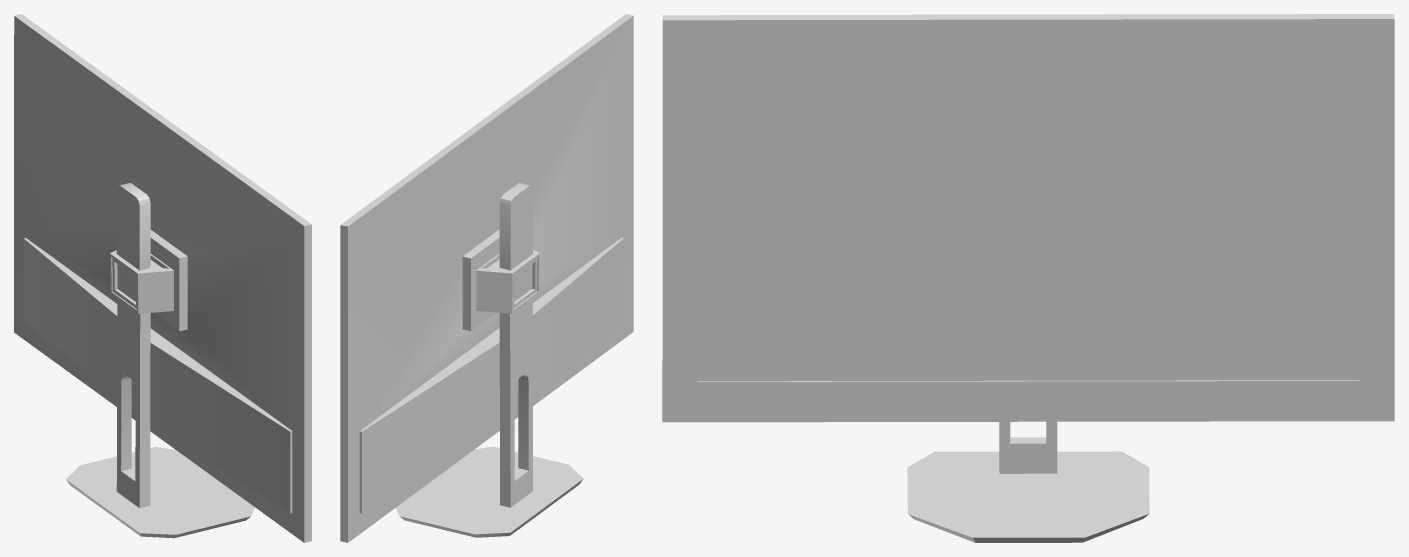
File: monitor_b.fbx
3 views of the same model, side by side, from view 1: azimuth 30°, elevation 25°; view 2: azimuth 150°, elevation 25°; view 3: azimuth 270°, elevation 25° (orthographic). The views are drawn at different scales.
Visible parts, largest first — view 1: monitor_b; view 2: monitor_b; view 3: monitor_b.
Part boxes in pixels (<box>): monitor_b: <box>14,14,311,542</box>; monitor_b: <box>340,14,633,542</box>; monitor_b: <box>662,14,1394,542</box>.
Size of the model in its own units: 0.3679 by 0.9511 by 1.32.
